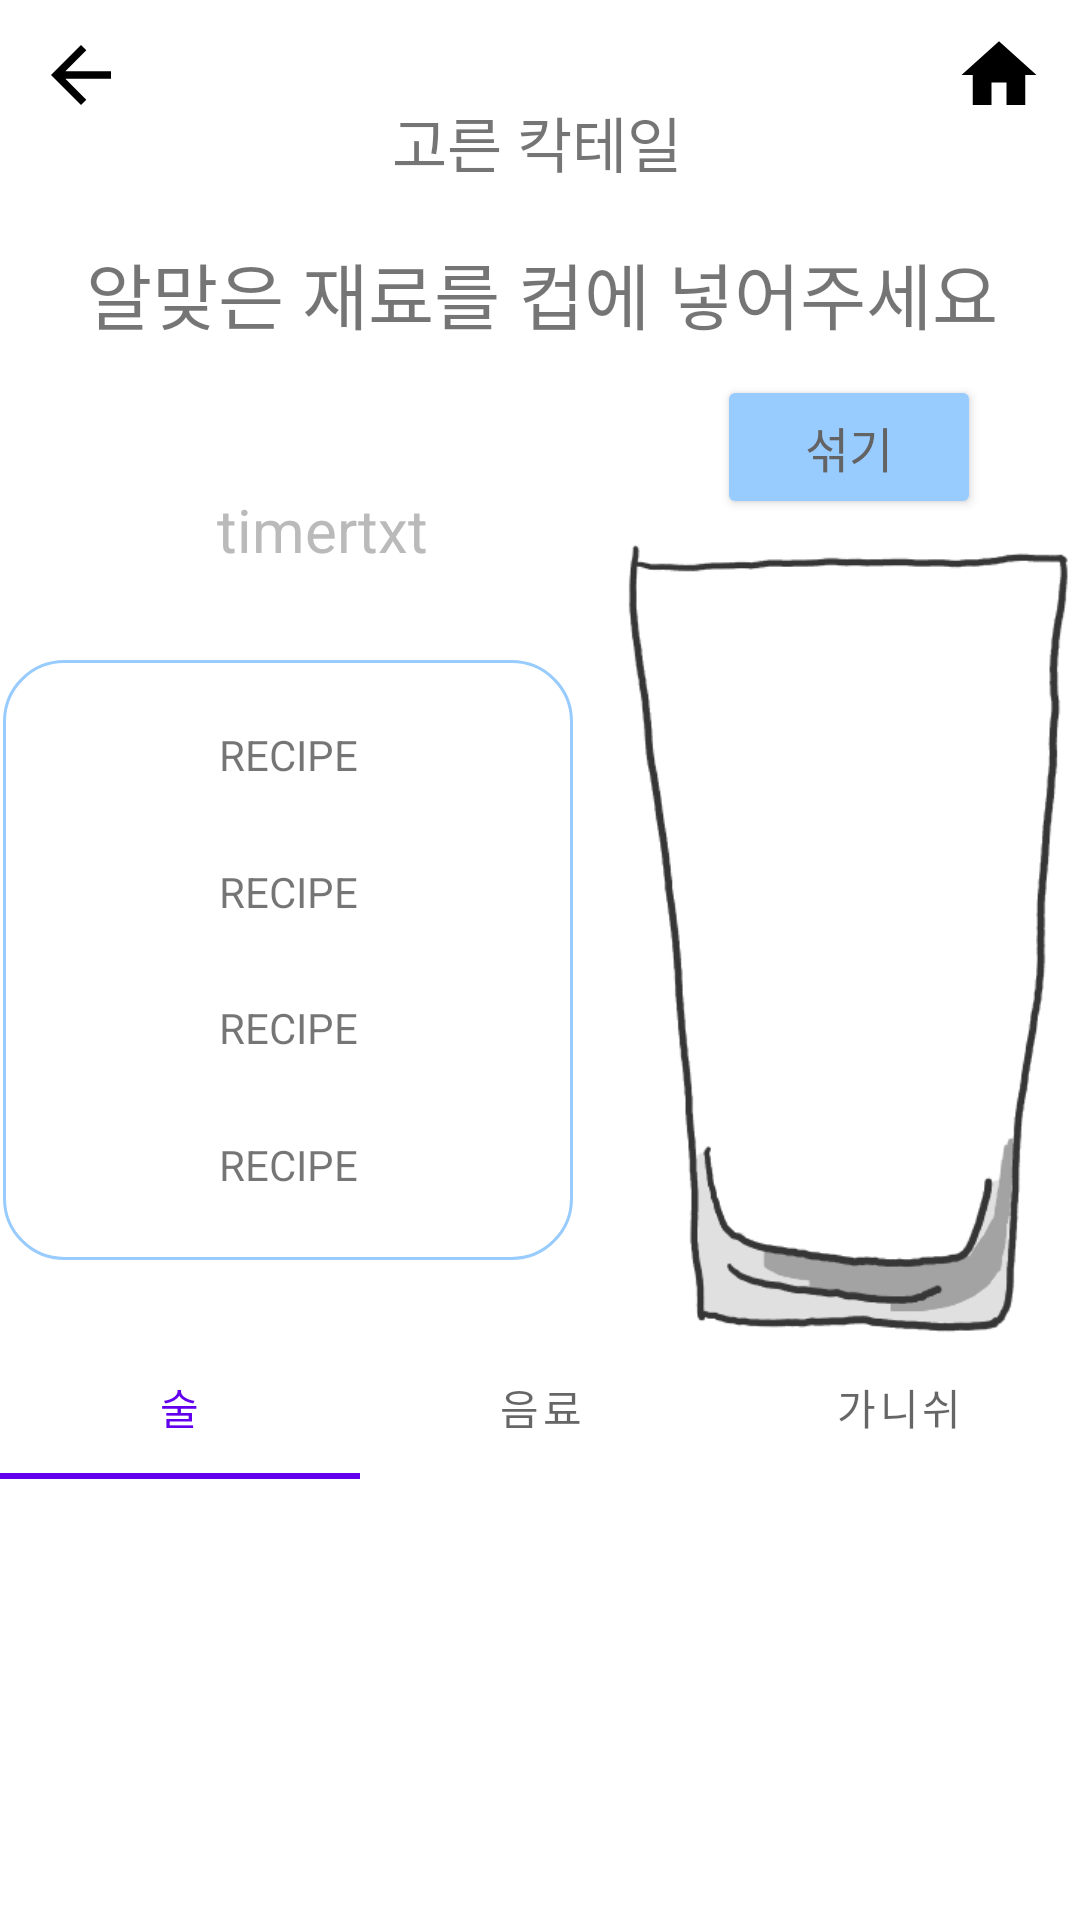

Icon bounding boxes for this 1080px×1920px phone screenshot, format (x1, y1, x2, y2):
arrow back: (51, 45, 111, 105)
home: (962, 41, 1036, 105)
